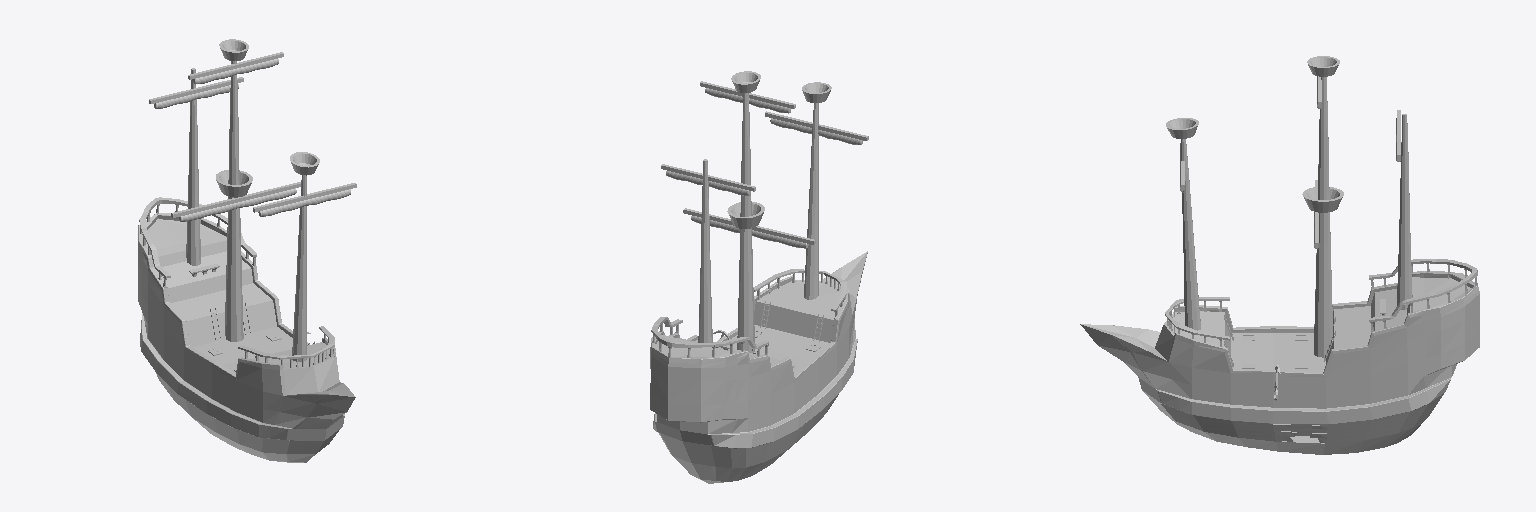
Rendered from boat_crashed.obj.
The picture shows the model from 3 angles: view 1: azimuth 30°, elevation 25°; view 2: azimuth 150°, elevation 25°; view 3: azimuth 270°, elevation 25°; orthographic projection.
Visible parts, largest first — view 1: boat ship_hull4:body, boat ship_hull4:mast2, boat ship_hull4:Mast1, boat ship_hull4:mast3, boat ship_hull4:back_rail ship_hull4:pCube80, boat ship_hull4:bottom_sail ship_hull4:pCylinder18, boat ship_hull4:pCube19 ship_hull4:bottom_sail, boat ship_hull4:bottom_nest, boat ship_hull4:front_sail ship_hull4:pCylinder18, boat ship_hull4:pCube19 ship_hull4:front_sail, boat ship_hull4:top_sail ship_hull4:pCylinder18, boat ship_hull4:front_nest (+1 smaller); view 2: boat ship_hull4:body, boat ship_hull4:mast2, boat ship_hull4:Mast1, boat ship_hull4:mast3, boat ship_hull4:back_rail ship_hull4:pCube80, boat ship_hull4:bottom_nest, boat ship_hull4:bottom_sail ship_hull4:pCylinder18, boat ship_hull4:pCube19 ship_hull4:bottom_sail, boat ship_hull4:front_rail ship_hull4:pCube82, boat ship_hull4:pCube19 ship_hull4:front_sail, boat ship_hull4:front_sail ship_hull4:pCylinder18; view 3: boat ship_hull4:body, boat ship_hull4:mast2, boat ship_hull4:mast3, boat ship_hull4:Mast1, boat ship_hull4:back_rail ship_hull4:pCube80, boat ship_hull4:bottom_nest, boat ship_hull4:front_nest, boat ship_hull4:front_rail ship_hull4:pCube82, boat ship_hull4:top_nest.
Part boxes in pixels (x1,y1,x2,y2): boat ship_hull4:body: (138,213,355,462); boat ship_hull4:mast2: (225,61,243,341); boat ship_hull4:Mast1: (292,175,306,361); boat ship_hull4:mast3: (186,68,200,265); boat ship_hull4:back_rail ship_hull4:pCube80: (139,197,256,278); boat ship_hull4:bottom_sail ship_hull4:pCylinder18: (179,188,296,221); boat ship_hull4:pCube19 ship_hull4:bottom_sail: (171,182,300,217); boat ship_hull4:bottom_nest: (216,170,252,197); boat ship_hull4:front_sail ship_hull4:pCylinder18: (258,189,350,216); boat ship_hull4:pCube19 ship_hull4:front_sail: (253,183,356,212); boat ship_hull4:top_sail ship_hull4:pCylinder18: (193,59,278,84); boat ship_hull4:front_nest: (290,152,319,175); boat ship_hull4:body: (650,251,867,483); boat ship_hull4:mast2: (737,93,754,352); boat ship_hull4:Mast1: (804,103,818,299); boat ship_hull4:mast3: (698,159,712,342); boat ship_hull4:back_rail ship_hull4:pCube80: (651,317,768,348); boat ship_hull4:bottom_nest: (727,202,764,228); boat ship_hull4:bottom_sail ship_hull4:pCylinder18: (691,216,808,248); boat ship_hull4:pCube19 ship_hull4:bottom_sail: (683,208,815,244); boat ship_hull4:front_rail ship_hull4:pCube82: (753,269,846,311); boat ship_hull4:pCube19 ship_hull4:front_sail: (765,111,868,140); boat ship_hull4:front_sail ship_hull4:pCylinder18: (770,118,862,144); boat ship_hull4:body: (1080,271,1479,454); boat ship_hull4:mast2: (1314,77,1332,357); boat ship_hull4:mast3: (1397,114,1412,309); boat ship_hull4:Mast1: (1181,139,1200,330); boat ship_hull4:back_rail ship_hull4:pCube80: (1369,259,1477,321); boat ship_hull4:bottom_nest: (1302,187,1343,212); boat ship_hull4:front_nest: (1166,118,1198,138); boat ship_hull4:front_rail ship_hull4:pCube82: (1165,297,1229,340); boat ship_hull4:top_nest: (1307,56,1339,76).
Bounding box in the file's own units: 1 × 2.84 × 2.66.